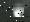person: (14, 5, 25, 17)
